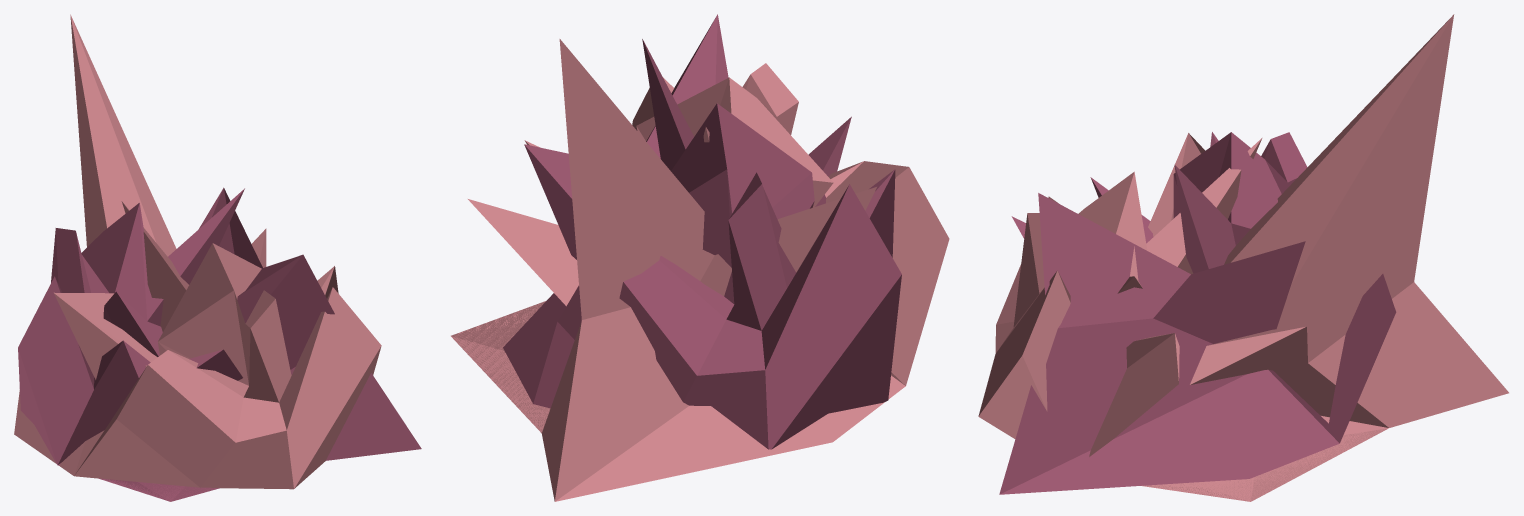
File: mountain1.fbx
The picture shows the model from 3 angles, left to right: view 1: azimuth 30°, elevation 25°; view 2: azimuth 150°, elevation 25°; view 3: azimuth 270°, elevation 25°; orthographic projection. The views are drawn at different scales.
Parts seen in each view (by area): view 1: pCube1, pasted__pCube1; view 2: pCube1, pasted__pCube1; view 3: pCube1, pasted__pCube1.
Part boxes in pixels (x1,y1,x2,y2): pCube1: [14, 14, 381, 489]; pasted__pCube1: [18, 187, 421, 501]; pCube1: [451, 39, 949, 501]; pasted__pCube1: [503, 14, 901, 449]; pCube1: [978, 14, 1508, 501]; pasted__pCube1: [999, 132, 1396, 494].
Size of the model in its own units: 16.75 by 16.27 by 20.05.
